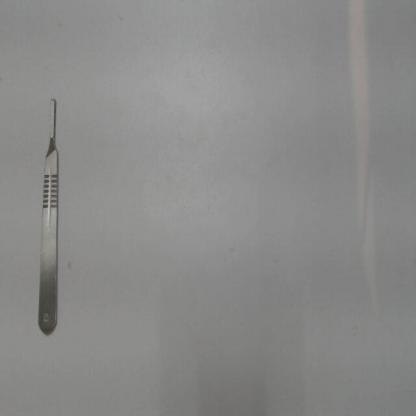No.4 BP Handle: (34, 87, 64, 340)
